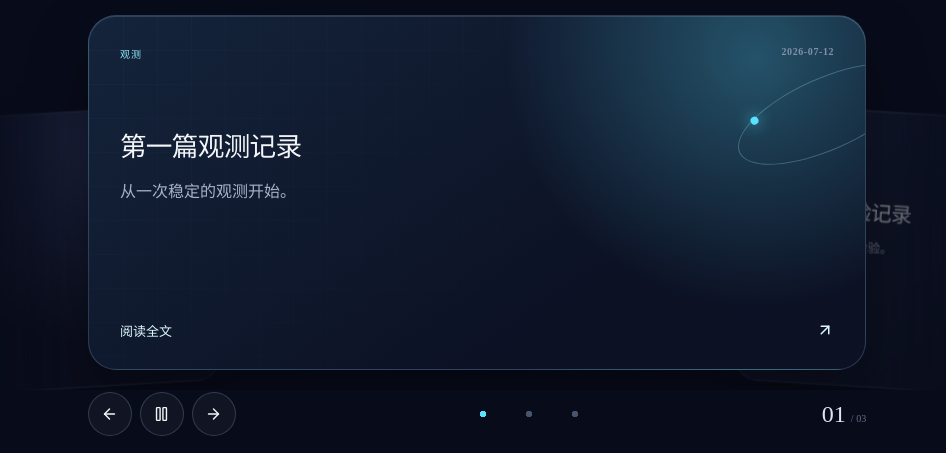
Scenario: PostCarousel › cycles with the previous and next controls
Click the button named "下一篇".
click(214, 414)  # box [192,392,236,436]
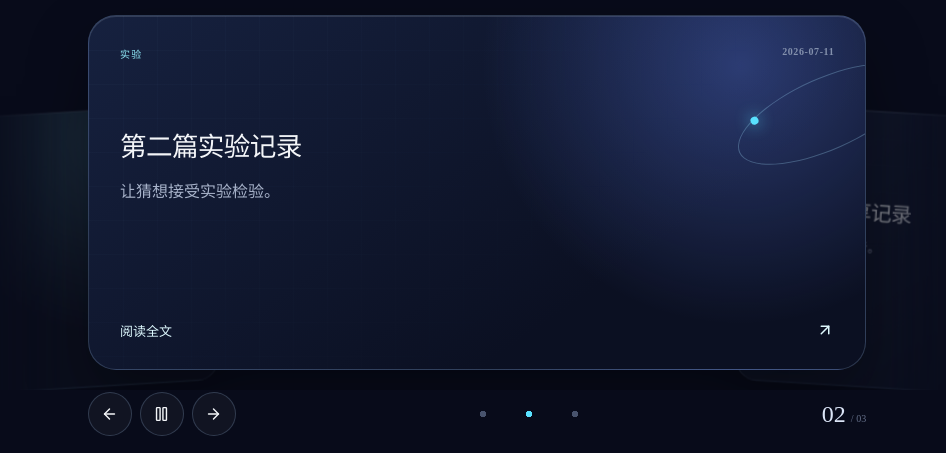
Expected: the heading "第二篇实验记录" is shown, [120,128,302,164]
Click the button named "上一篇".
click(110, 414)  # box [88,392,132,436]
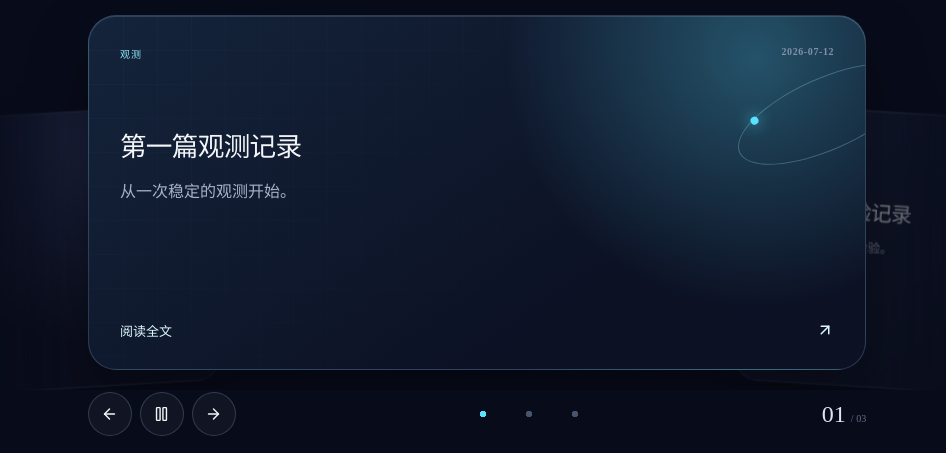
Result: the heading "第一篇观测记录" is shown at [120,128,302,164]
